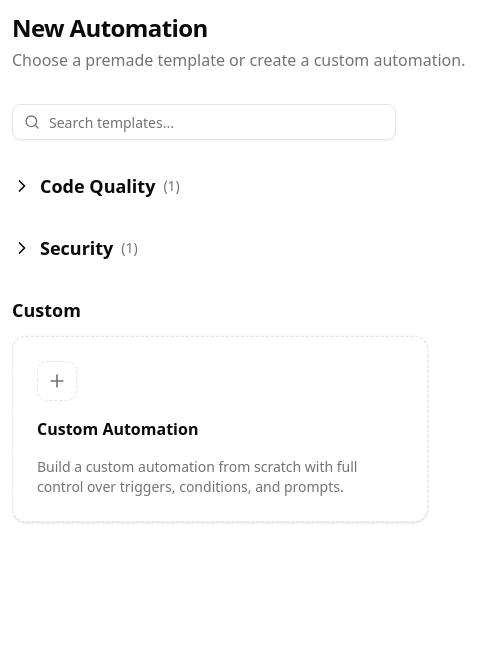
Test case: AutomationNewPage › should show all category templates when search matches category name
Expected: the text "Code Quality" is shown, [40,172,155,200]
Type "Code Quality" into the field with placeholder "Search templates..." at x=204, y=122, box [12,104,396,140]
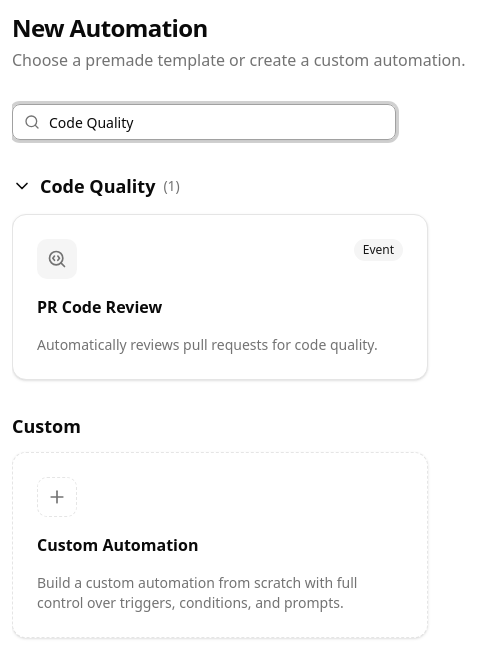
Now the text "PR Code Review" is shown, box [37,296,162,318]
